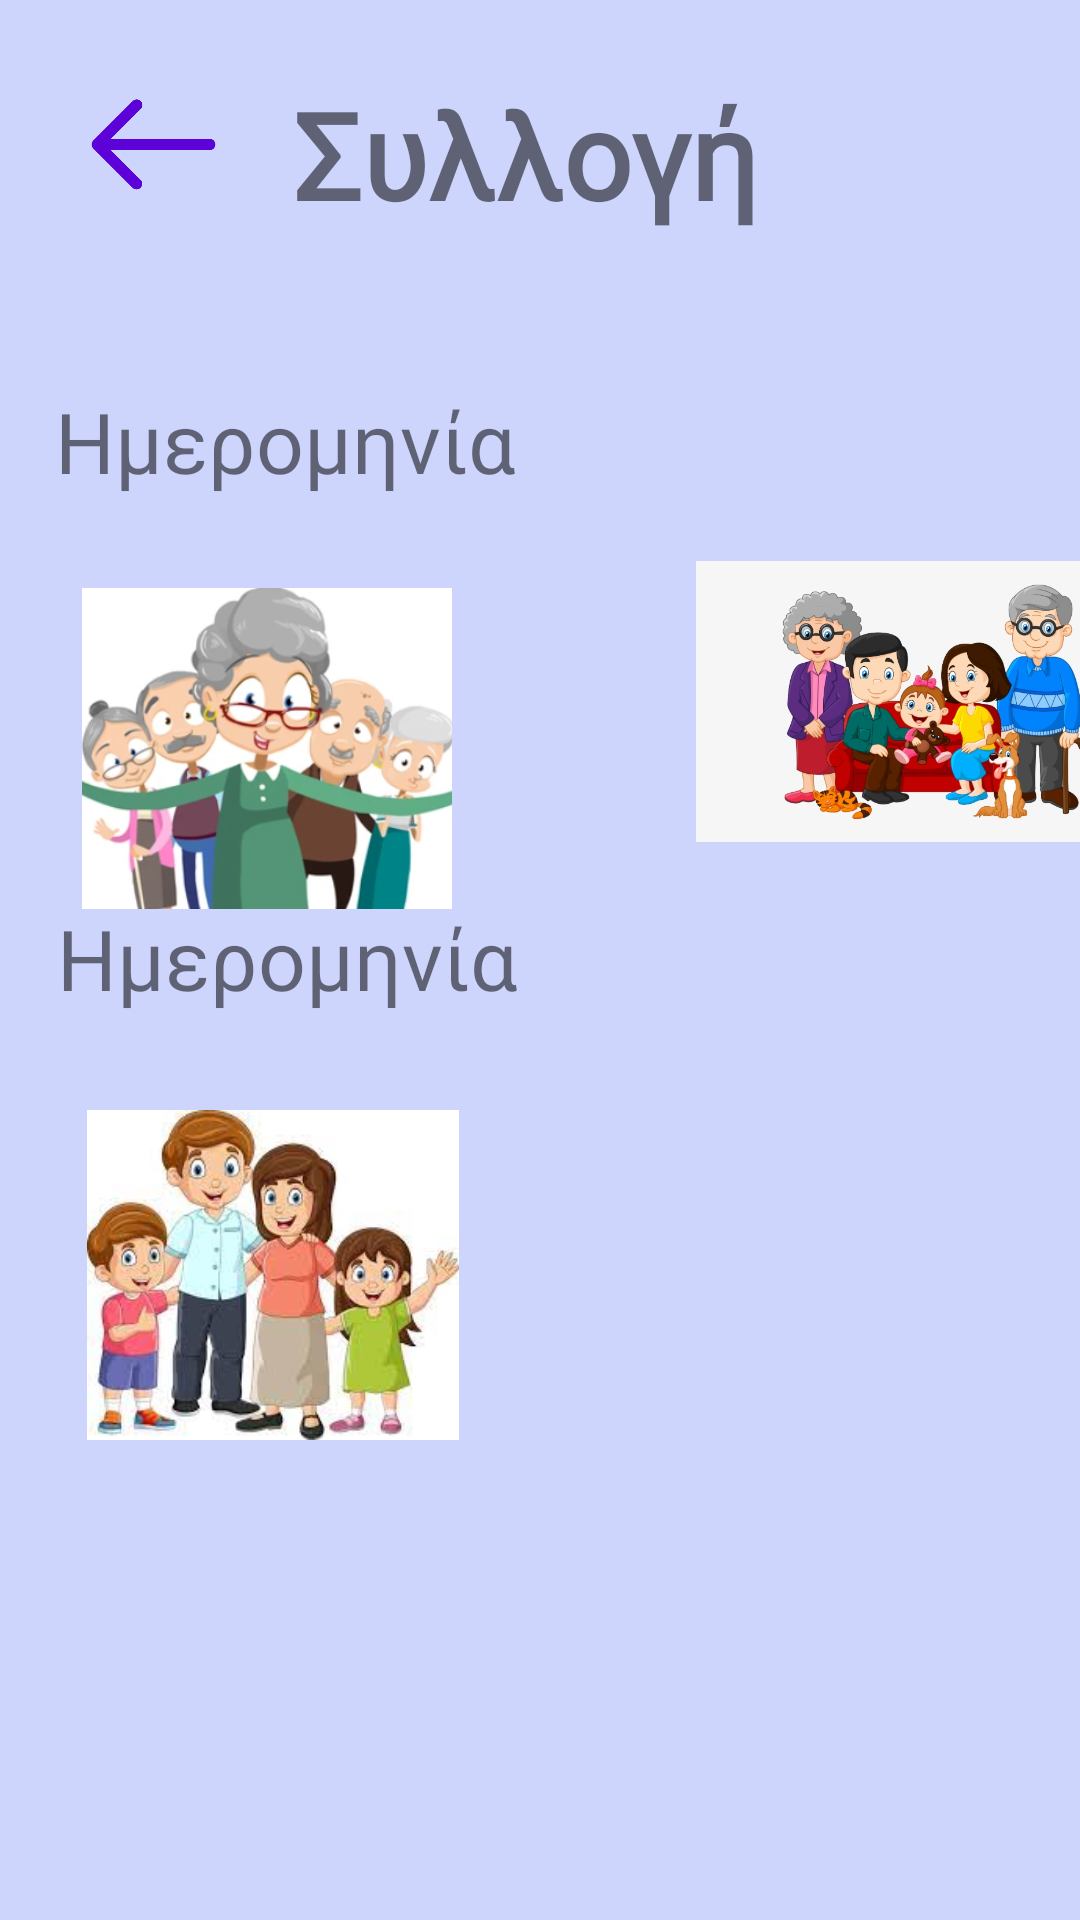

Icon click points for this 1080w x 1920h phone screenshot, format point (x, y):
back: point (153, 144)
